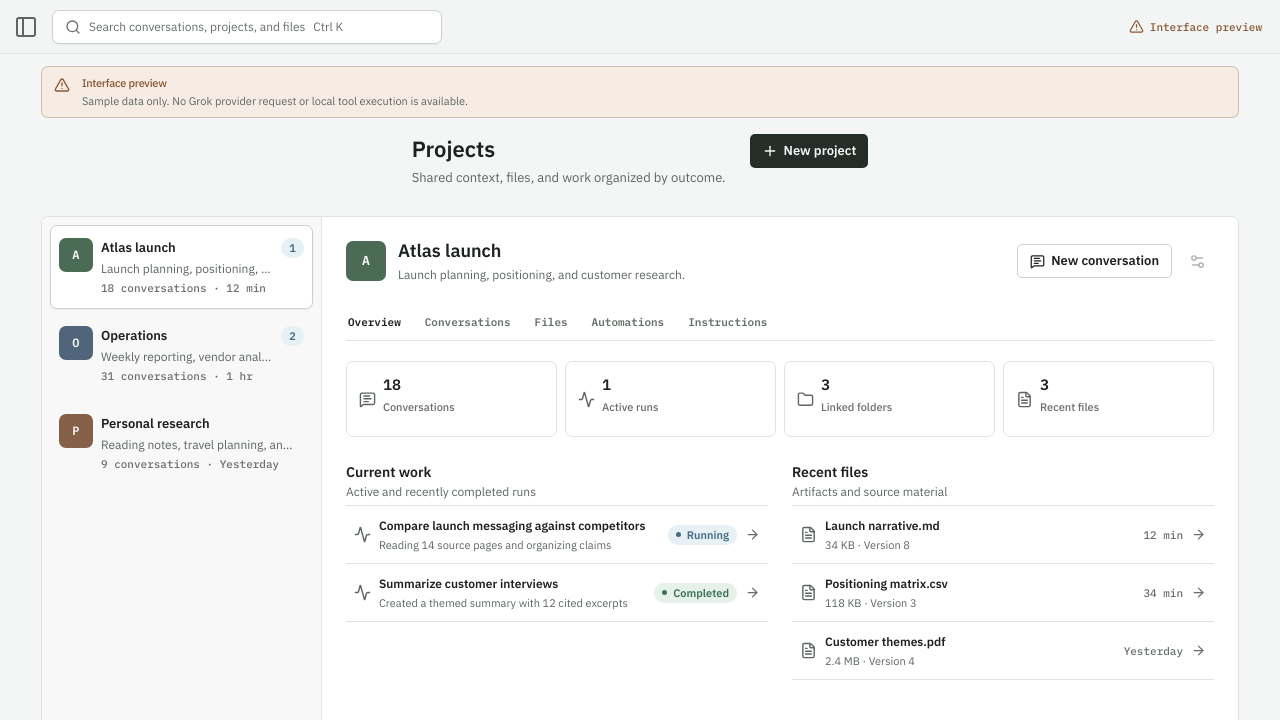
Test: Grok Desktop shell › exposes project sections as keyboard-accessible tabs
Check: the heading "Atlas launch" is shown, box [398, 239, 502, 262]
Click the tab "Instructions" at (728,322), box [686, 302, 769, 342]
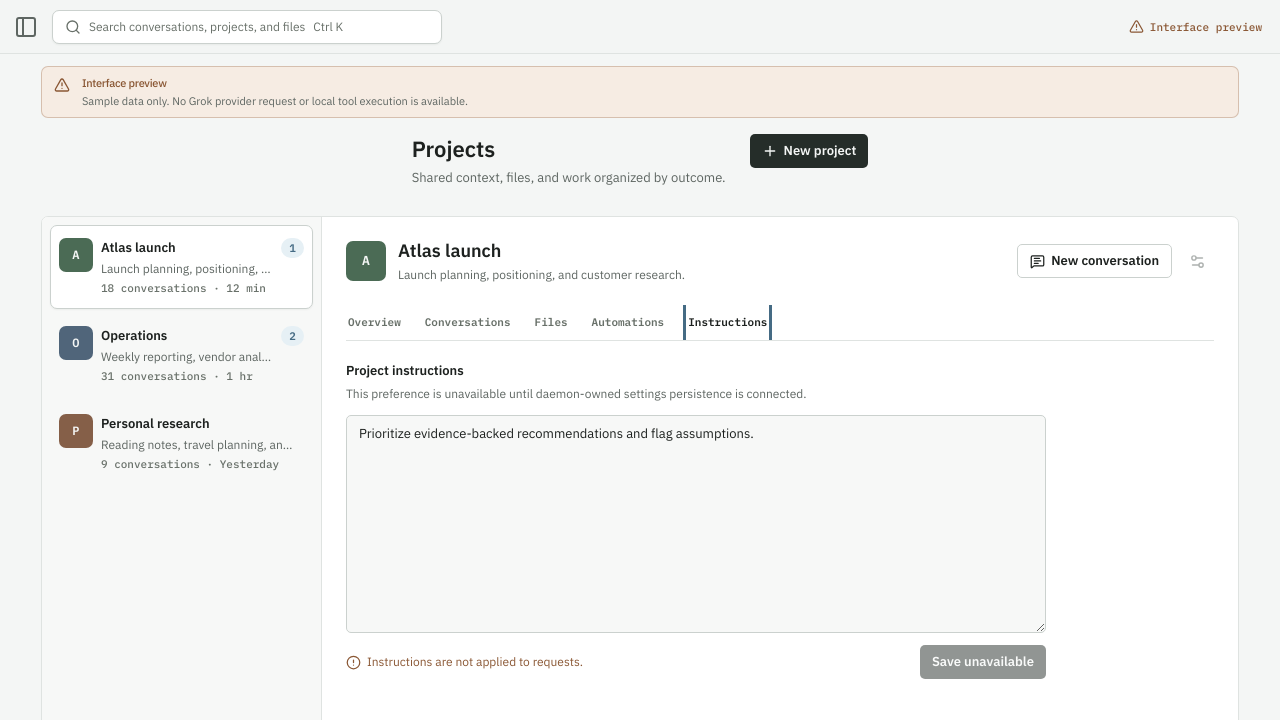
Check: the text box labelled "Project instructions" holds "Prioritize evidence-backed recommendations and flag assumptions.", box [346, 415, 1046, 633]
